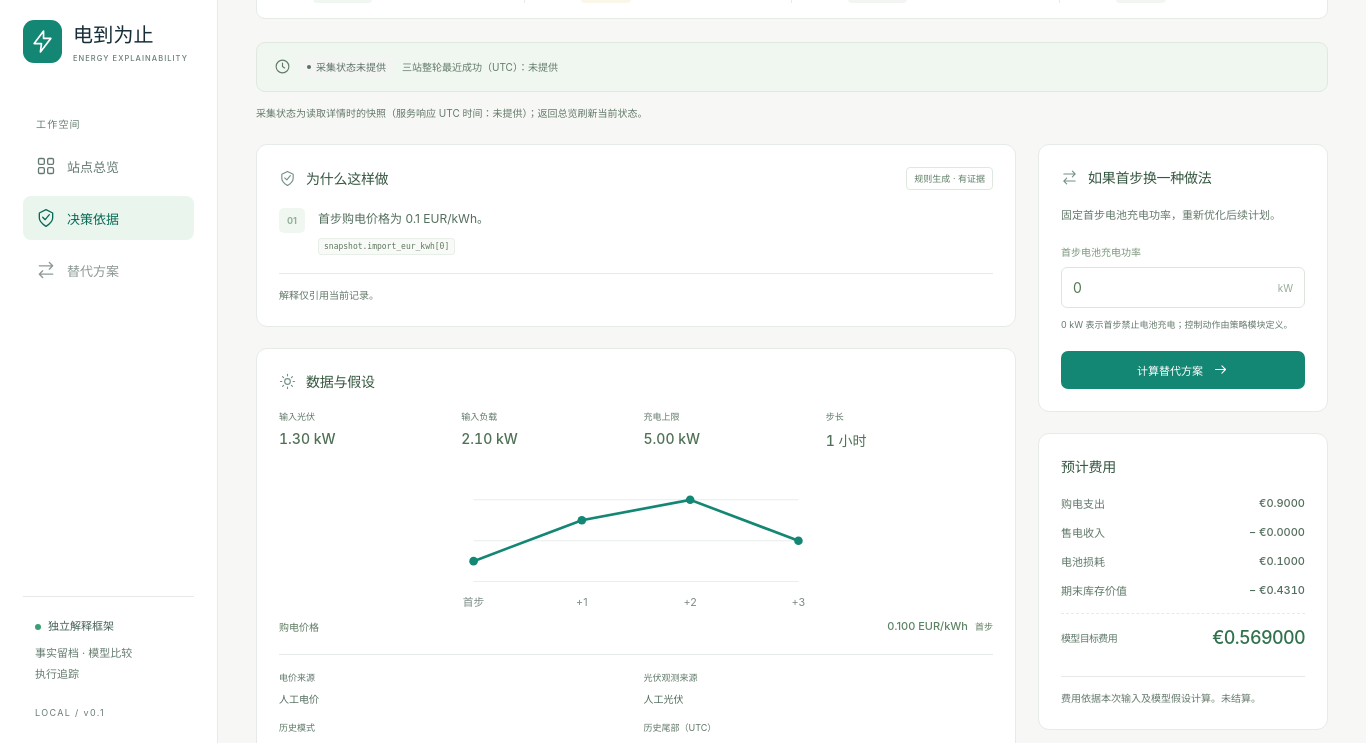
Scenario: 储能解释用户流程 › 提交零充电干预，完成导航并如实展示负费用差
This screenshot has width=1366, height=743.
(page scrolled)
Click the button "计算替代方案": click(1183, 370) [1061,351,1305,389]
(page scrolled)
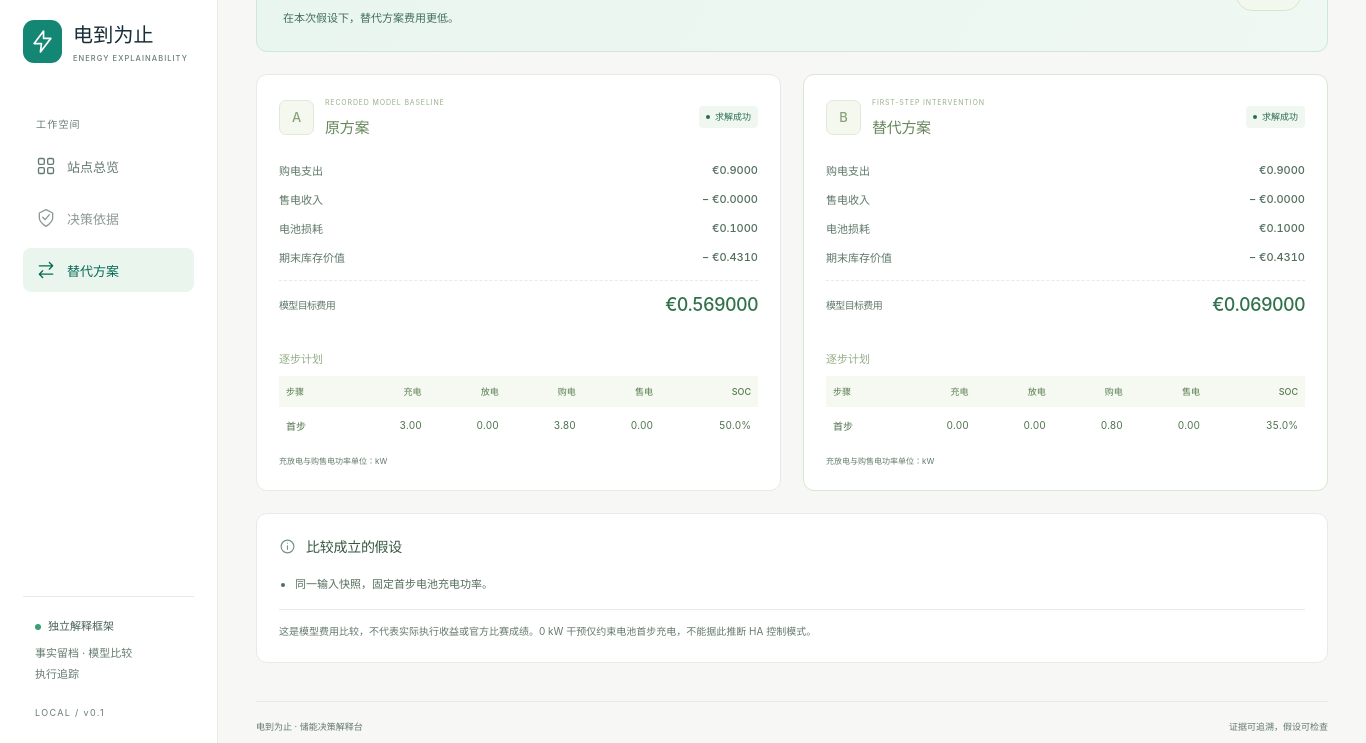
Expected: the text "在本次假设下，替代方案费用更低。" is shown, [283,11,459,25]
Expected: the text "这是模型费用比较，不代表实际执行收益或官方比赛成绩。0 kW 干预仅约束电池首步充电，不能据此推断 HA 控制模式。" is shown, [279,609,1305,640]
